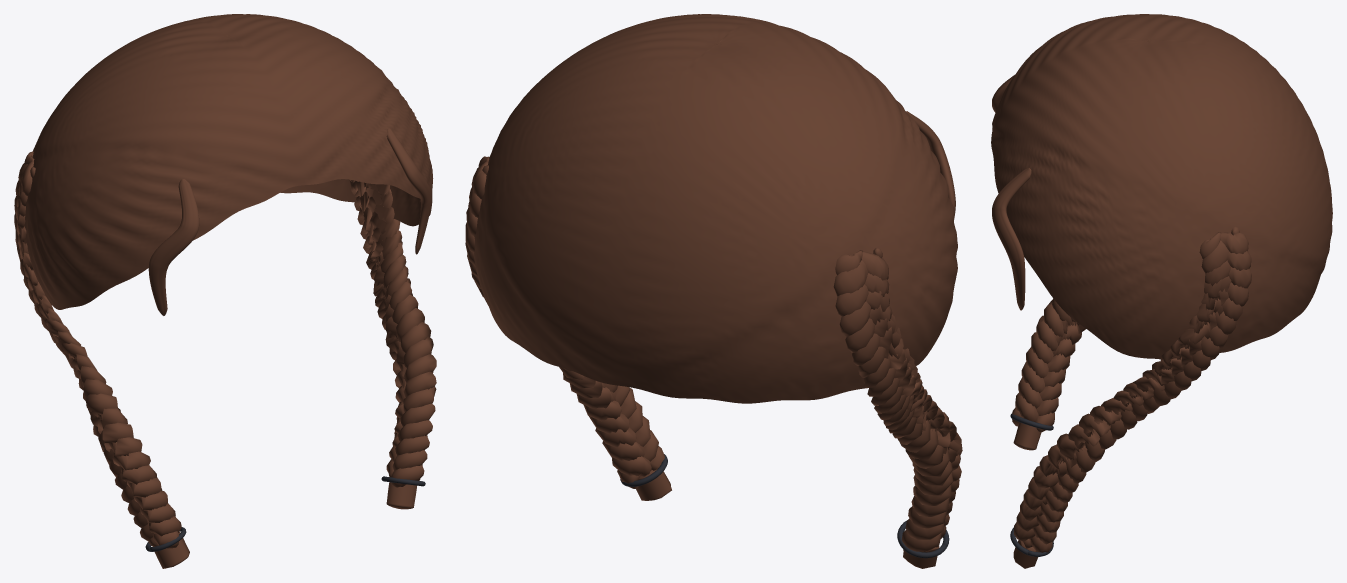
File: Feminine-twin-braids-open-pashmina250-hair.glb
The picture shows the model from 3 angles, left to right: view 1: azimuth 30°, elevation 25°; view 2: azimuth 150°, elevation 25°; view 3: azimuth 270°, elevation 25°; orthographic projection. The views are drawn at different scales.
Visible parts, largest first — view 1: 226 hair / Hair / chestnut226.002; view 2: 226 hair / Hair / chestnut226.002, 226 hair / Hair / ties226.001; view 3: 226 hair / Hair / chestnut226.002, 226 hair / Hair / ties226.001.
Part boxes in pixels (x1,y1,x2,y2): 226 hair / Hair / chestnut226.002: [14, 14, 436, 568]; 226 hair / Hair / chestnut226.002: [465, 14, 962, 568]; 226 hair / Hair / ties226.001: [620, 454, 949, 558]; 226 hair / Hair / chestnut226.002: [991, 14, 1332, 568]; 226 hair / Hair / ties226.001: [1010, 413, 1053, 556].
Size of the model in its own units: 0.9966 by 1.18 by 0.7838.
